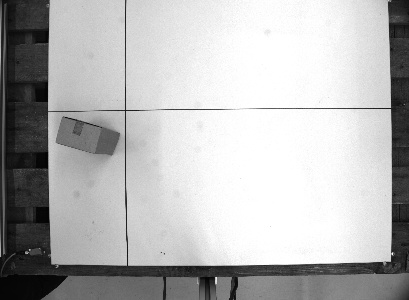b6: (52, 112, 122, 158)
